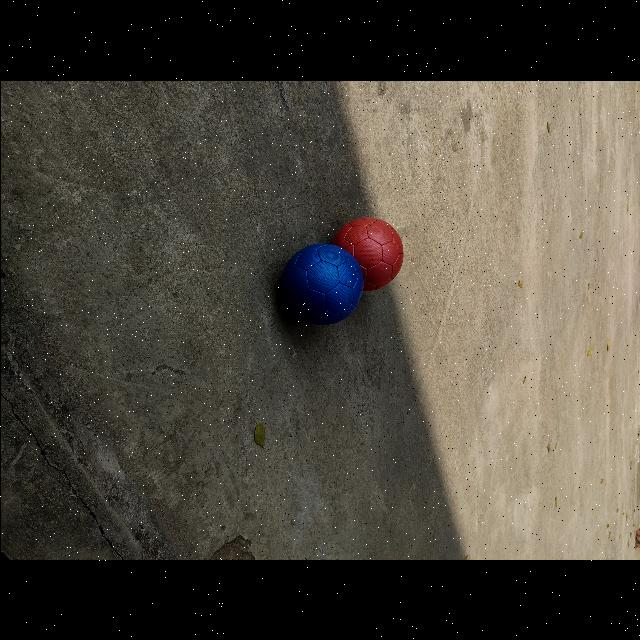B: (280, 243, 363, 324)
R: (332, 217, 403, 290)
